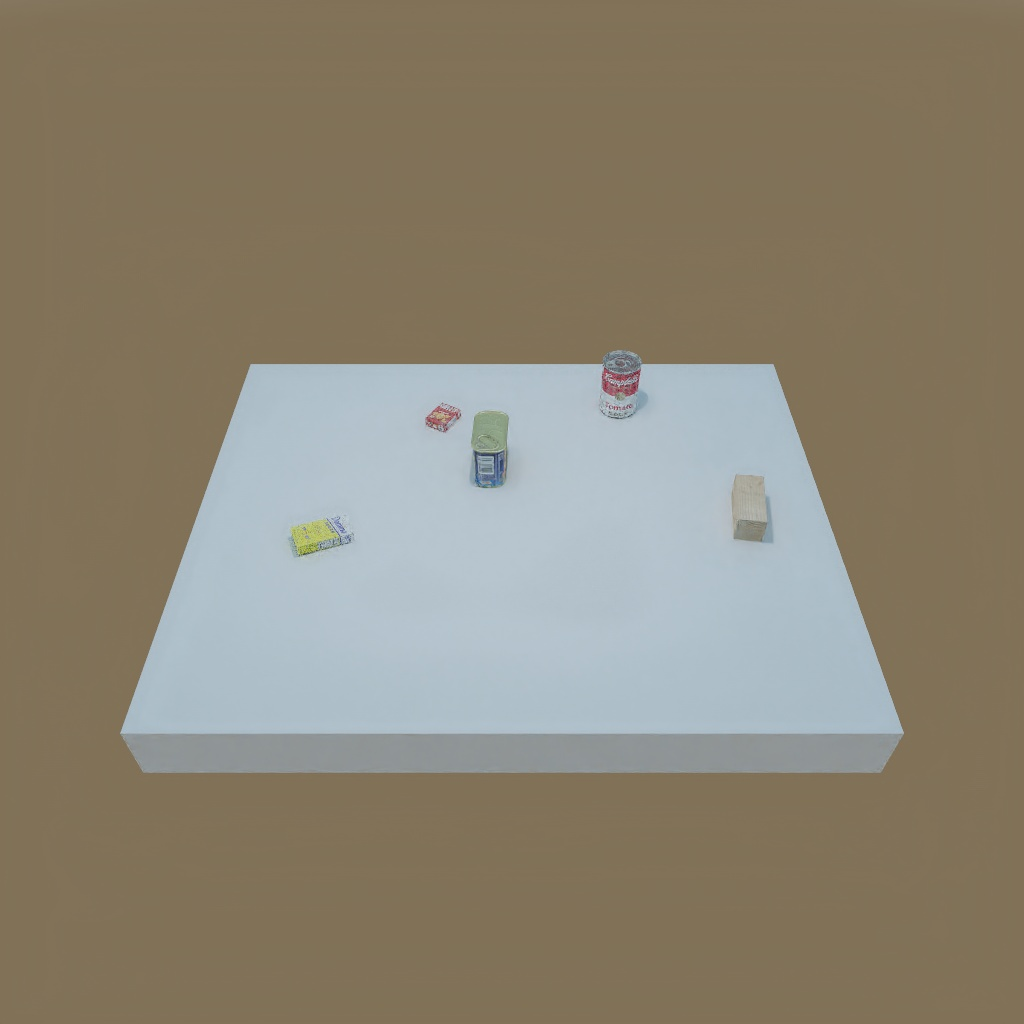potted_meat_can: (469, 412, 516, 489)
tomato_soup_can: (598, 343, 639, 419)
wood_block: (724, 468, 770, 544)
